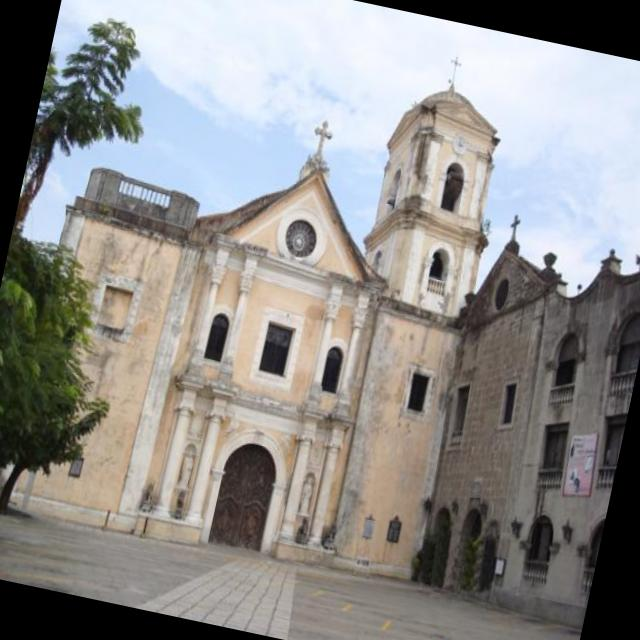San Agustin Church: (11, 54, 503, 581)
